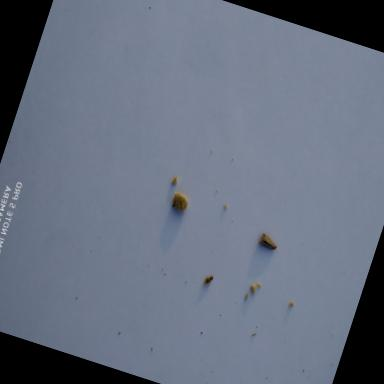pbw: (256, 233, 280, 253)
